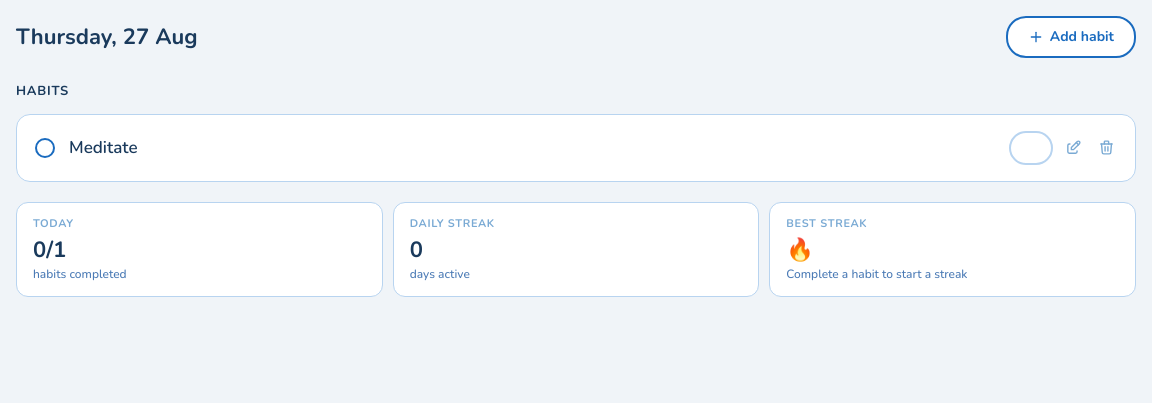
it: HabitsSection component › when the user clicks a habit's edit icon › then opens that habit's update form and disables the 'Add habit' button
Click the button named "Edit habit": [1074, 148] box [1061, 135, 1086, 160]
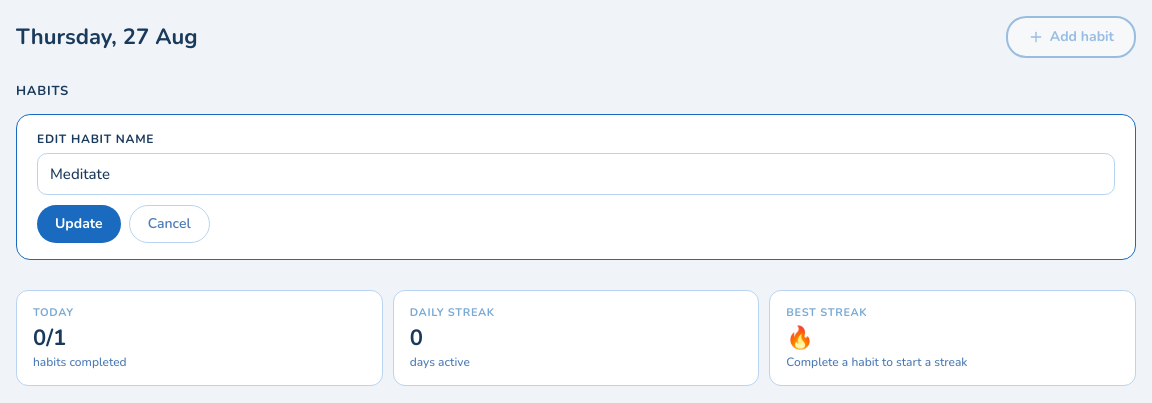
Expected: the field labelled "Edit habit name" holds "Meditate", [37, 152, 1115, 195]
Expected: the button "Add habit" is disabled, [1006, 16, 1136, 58]
